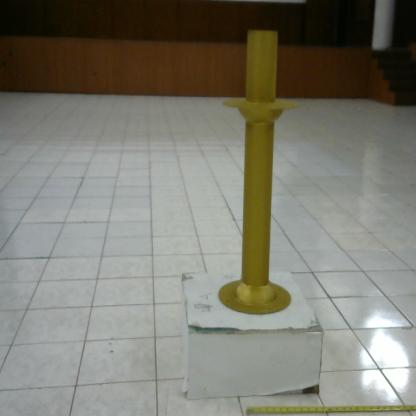pole: (212, 26, 301, 319)
